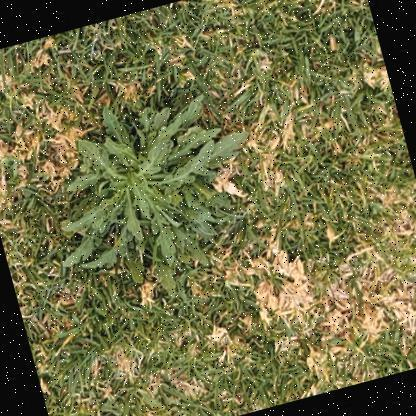Weeds: (28, 75, 285, 323)
